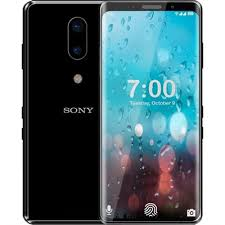sony: (97, 1, 203, 225), (20, 1, 102, 225)
